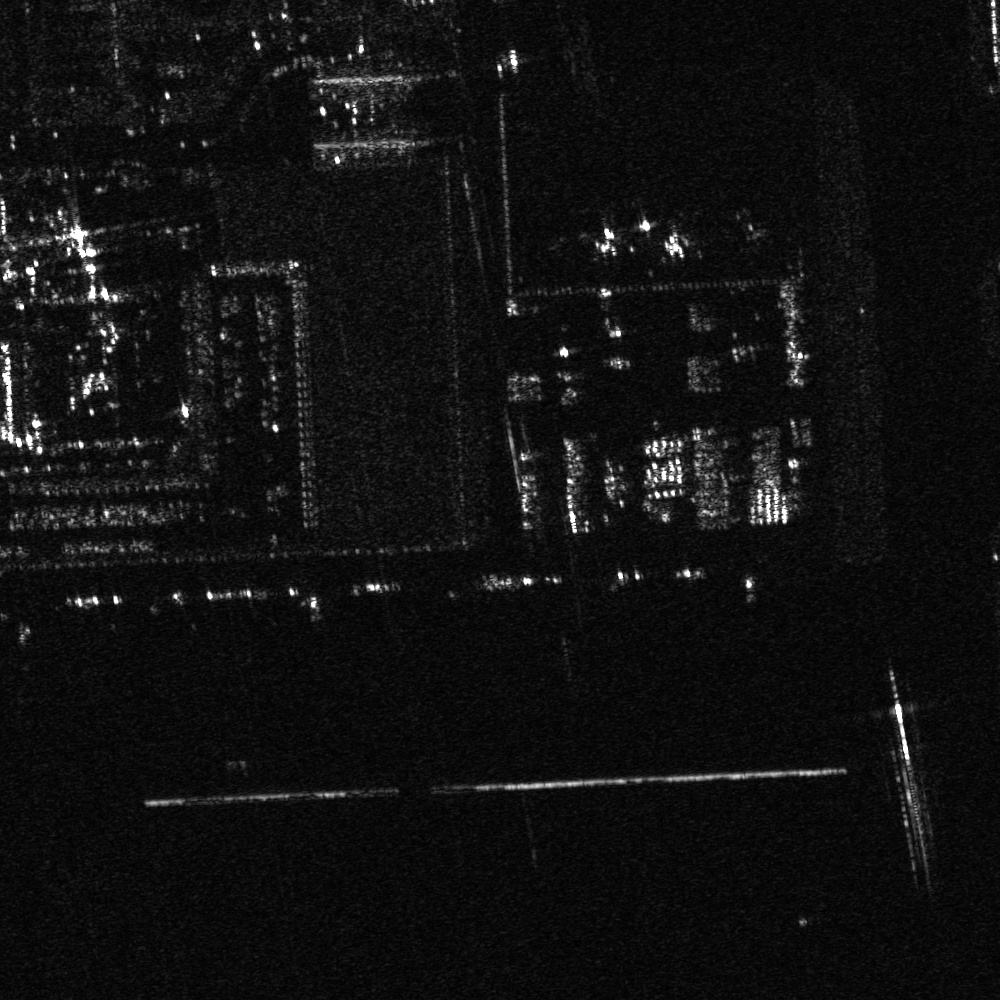ARJ21: (577, 219, 628, 265)
other: (646, 214, 699, 264)
